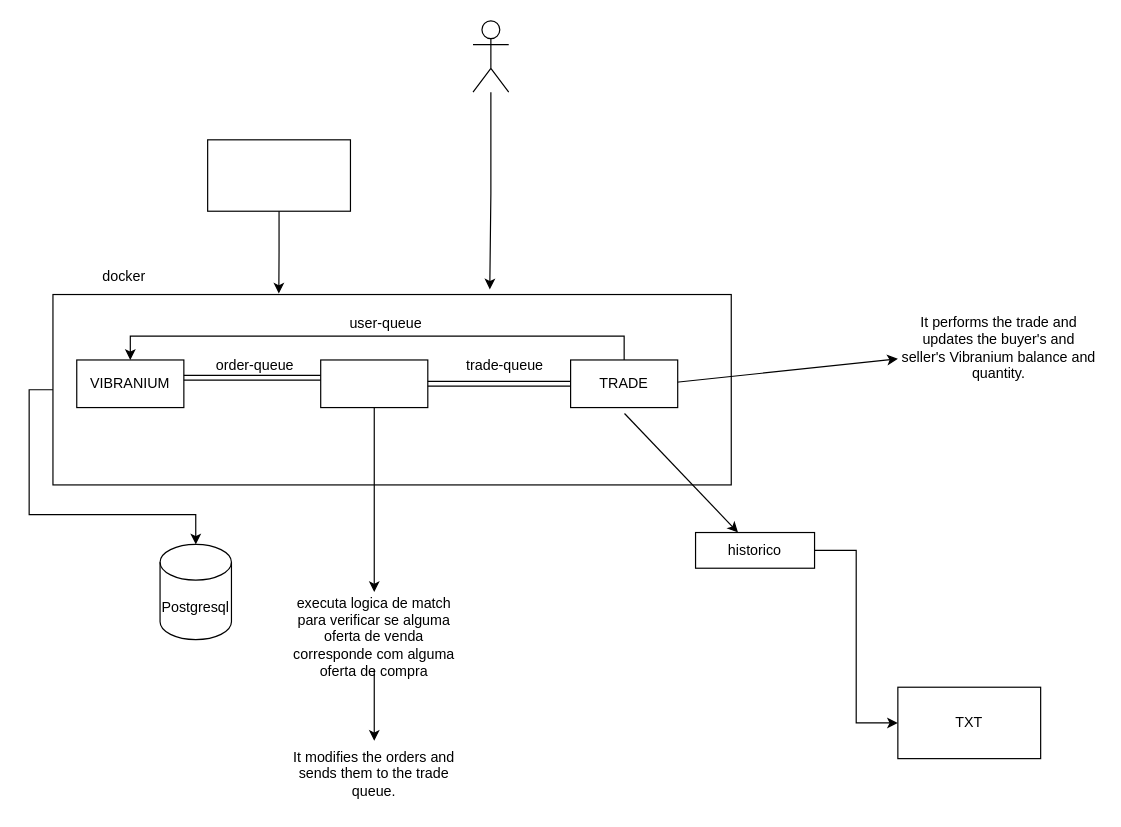
The diagram is 1121 pixels wide and 827 high, and some of its shapes have lost their labels. Each missing label, with the centre of its shape:
ORDERS: (x=374, y=383)
Prometheus + Grafana: (x=278, y=175)
